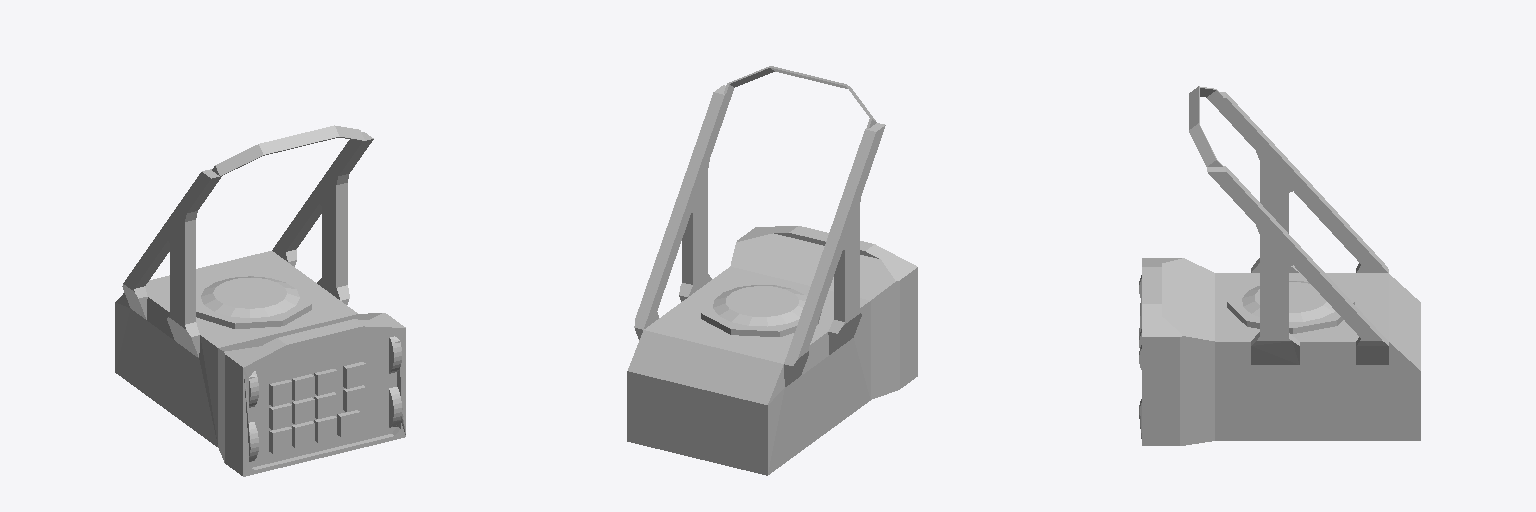
The model's file is HUD_bkp.obj.
3 views of the same model, side by side, from view 1: azimuth 30°, elevation 25°; view 2: azimuth 150°, elevation 25°; view 3: azimuth 270°, elevation 25° (orthographic).
Parts seen in each view (by area): view 1: HUD_HUD.001; view 2: HUD_HUD.001; view 3: HUD_HUD.001.
Part boxes in pixels (left/top/right/bottom): HUD_HUD.001: left=115, top=125, right=405, bottom=476; HUD_HUD.001: left=627, top=66, right=917, bottom=475; HUD_HUD.001: left=1139, top=86, right=1420, bottom=445.
Bounding box in the file's own units: 0.29 × 0.5148 × 0.435.